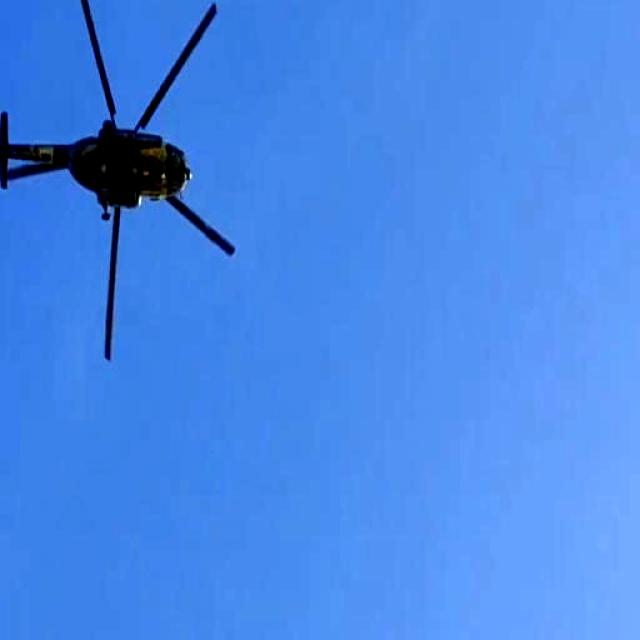drone: (0, 0, 241, 365)
